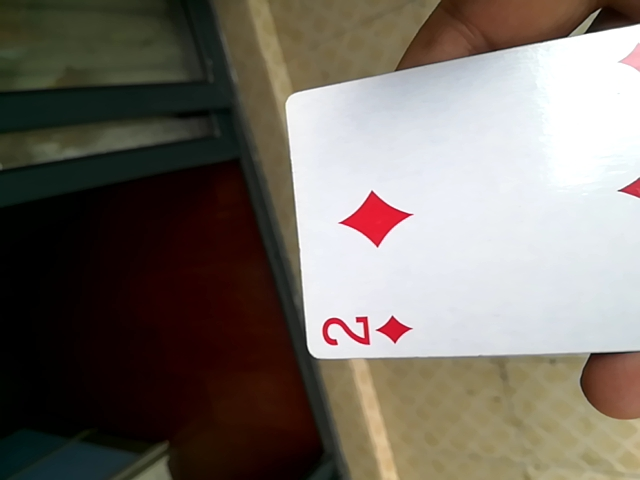fk 2: (273, 13, 640, 361)
